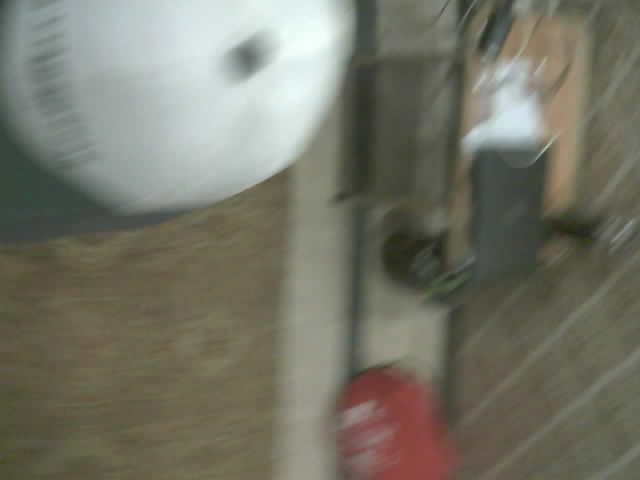cap: (0, 0, 354, 214)
